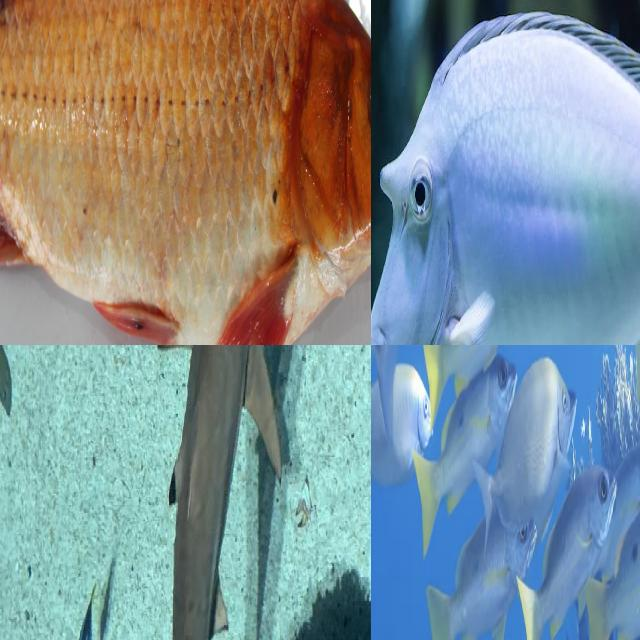fish: (0, 0, 371, 345), (371, 345, 640, 640), (371, 0, 572, 345), (107, 345, 283, 640)
